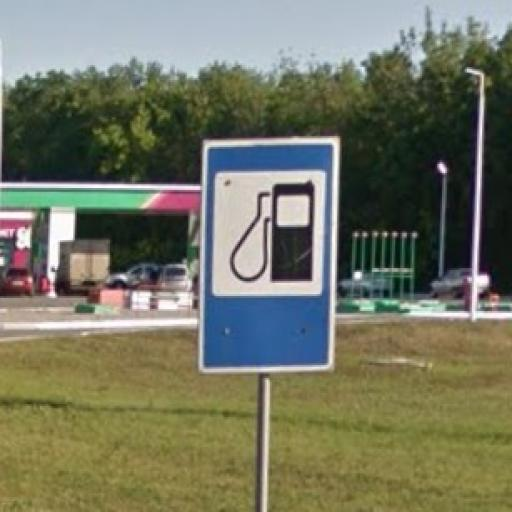traffic_sign: (198, 135, 340, 377)
